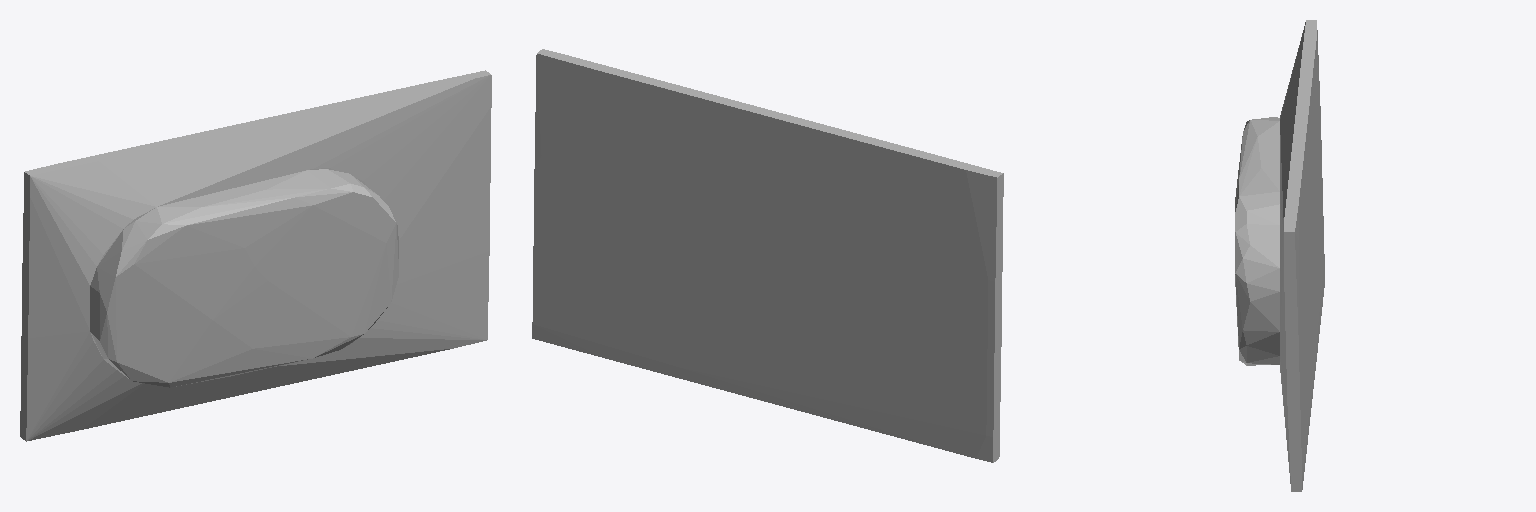
URDF robot description (root):
<robot name="root">
  <link name="link_kit_packaged~HeringTin_800_tex_packaged_convex_piece_0">
    <inertial>
      <origin rpy="0 0 0" xyz="0 0 0"/>
      <mass value="2.14E-01"/>
      <inertia ixx="8.21E-05" ixy="-4.53E-06" ixz="-1.95E-06" iyy="2.75E-04" iyz="-1.65E-06" izz="2.17E-04"/>
    </inertial>
    <visual>
      <origin rpy="0 0 0" xyz="0 0 0"/>
      <geometry>
        <mesh filename="kit_packaged~HeringTin_800_tex_packaged_convex_piece_0.obj" scale="1.0000E+00 1.0000E+00 1.0000E+00"/>
      </geometry>
      <material name="">
        <color rgba="7.50E-01 7.50E-01 7.50E-01 1"/>
      </material>
    </visual>
    <collision>
      <origin rpy="0 0 0" xyz="0 0 0"/>
      <geometry>
        <mesh filename="kit_packaged~HeringTin_800_tex_packaged_convex_piece_0.obj" scale="1.0000E+00 1.0000E+00 1.0000E+00"/>
      </geometry>
    </collision>
  </link>
  <link name="link_kit_packaged~HeringTin_800_tex_packaged_convex_piece_1">
    <inertial>
      <origin rpy="0 0 0" xyz="0 0 0"/>
      <mass value="3.90E-01"/>
      <inertia ixx="3.37E-04" ixy="-2.47E-05" ixz="-2.88E-07" iyy="1.26E-03" iyz="-7.97E-06" izz="9.74E-04"/>
    </inertial>
    <visual>
      <origin rpy="0 0 0" xyz="0 0 0"/>
      <geometry>
        <mesh filename="kit_packaged~HeringTin_800_tex_packaged_convex_piece_1.obj" scale="1.0000E+00 1.0000E+00 1.0000E+00"/>
      </geometry>
      <material name="">
        <color rgba="7.50E-01 7.50E-01 7.50E-01 1"/>
      </material>
    </visual>
    <collision>
      <origin rpy="0 0 0" xyz="0 0 0"/>
      <geometry>
        <mesh filename="kit_packaged~HeringTin_800_tex_packaged_convex_piece_1.obj" scale="1.0000E+00 1.0000E+00 1.0000E+00"/>
      </geometry>
    </collision>
  </link>
  <joint name="link_kit_packaged~HeringTin_800_tex_packaged_convex_piece_1_joint" type="fixed">
    <origin rpy="0 0 0" xyz="0 0 0"/>
    <parent link="link_kit_packaged~HeringTin_800_tex_packaged_convex_piece_0"/>
    <child link="link_kit_packaged~HeringTin_800_tex_packaged_convex_piece_1"/>
  </joint>
</robot>

--- Render facts (derived) ---
3 views of the same robot in one strip: view 1: azimuth 30°, elevation 25°; view 2: azimuth 150°, elevation 25°; view 3: azimuth 270°, elevation 25° (orthographic).
Robot: root — 2 links, 1 joints (1 fixed); root link link_kit_packaged~HeringTin_800_tex_packaged_convex_piece_0; default pose: all joints at 0.
Links seen in each view (by area): view 1: link_kit_packaged~HeringTin_800_tex_packaged_convex_piece_1, link_kit_packaged~HeringTin_800_tex_packaged_convex_piece_0; view 2: link_kit_packaged~HeringTin_800_tex_packaged_convex_piece_1; view 3: link_kit_packaged~HeringTin_800_tex_packaged_convex_piece_1, link_kit_packaged~HeringTin_800_tex_packaged_convex_piece_0.
Boxes of the visible links, <box> form: link_kit_packaged~HeringTin_800_tex_packaged_convex_piece_1: <box>20,70,491,441</box>; link_kit_packaged~HeringTin_800_tex_packaged_convex_piece_0: <box>90,169,398,387</box>; link_kit_packaged~HeringTin_800_tex_packaged_convex_piece_1: <box>532,49,1003,462</box>; link_kit_packaged~HeringTin_800_tex_packaged_convex_piece_1: <box>1280,20,1324,491</box>; link_kit_packaged~HeringTin_800_tex_packaged_convex_piece_0: <box>1235,117,1279,365</box>.
Bounding box of the posed robot: 0.1842 × 0.0328 × 0.1051 m (x, y, z).
Meshes: 2 distinct files referenced, 2 mesh visuals loaded (2 OBJ).
